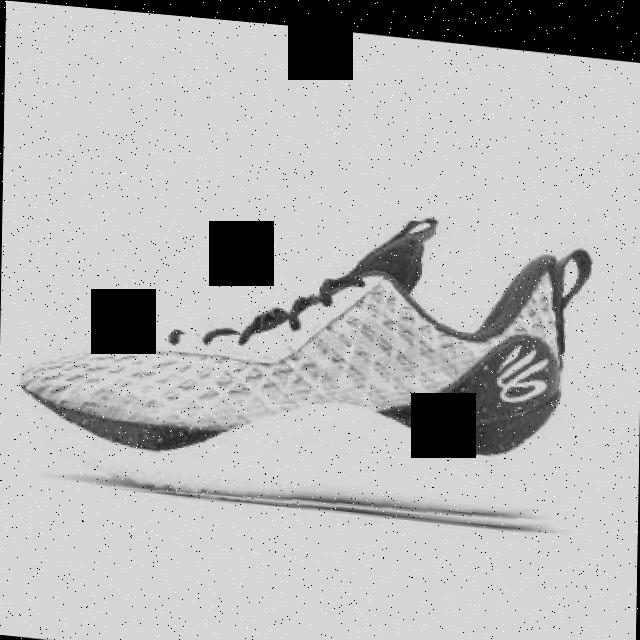shoe: (18, 178, 620, 532)
